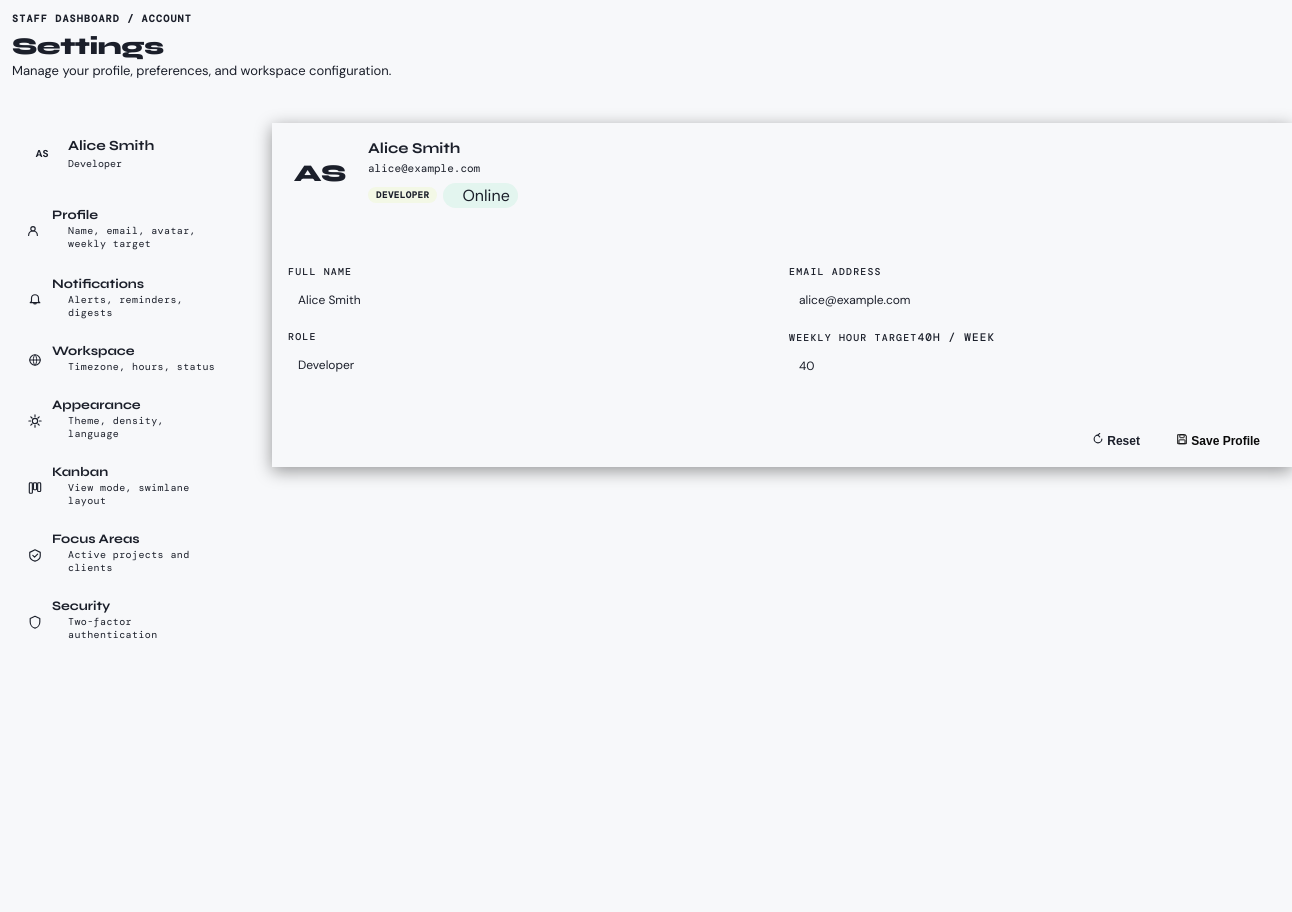
Test: SettingsPage — Workspace tab › shows timezone select with provided options
Click the tab "Workspace Timezone, hours, status" at (132, 362), box [12,335,252,389]
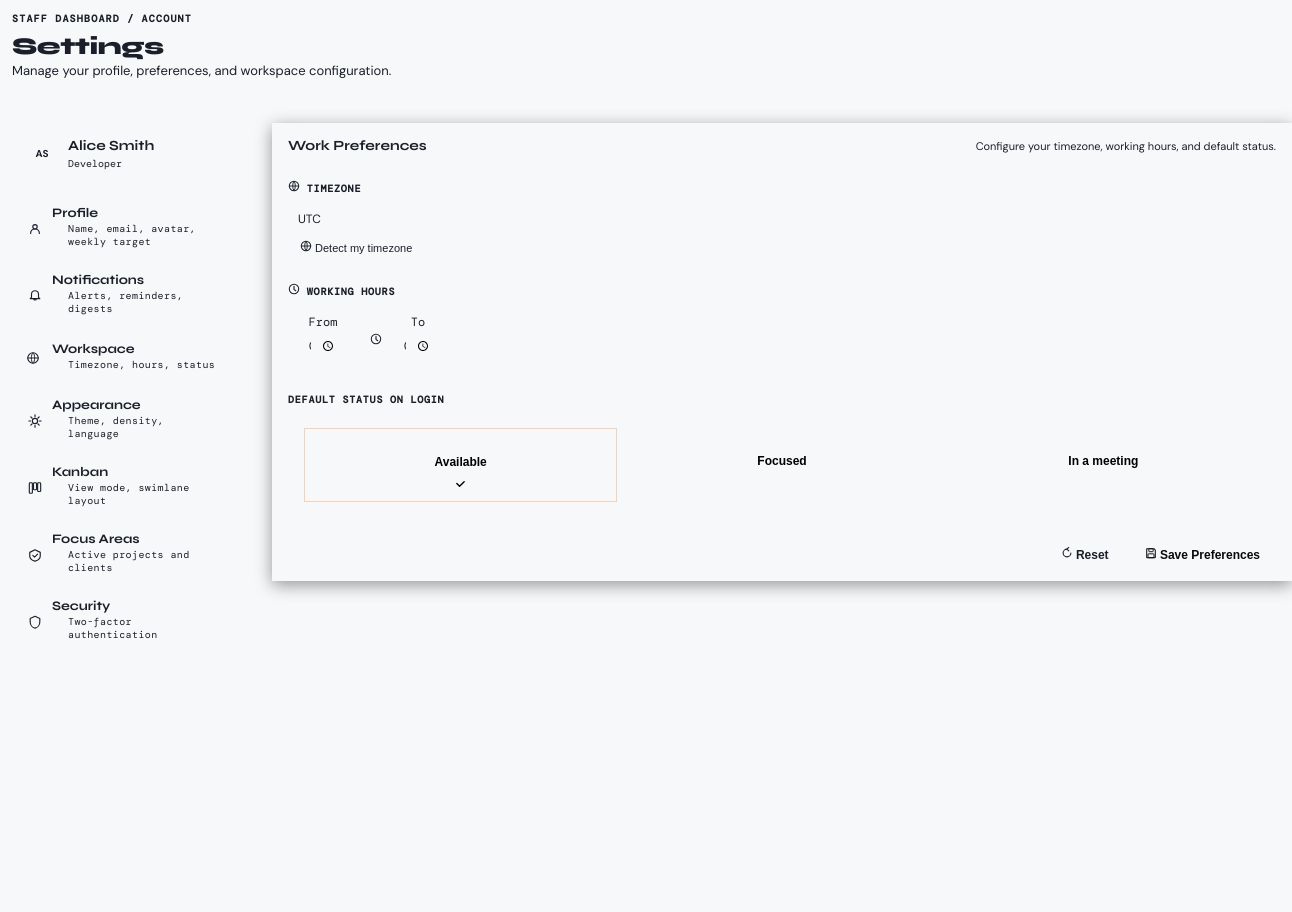
Now the dropdown is shown, box [288,203,1276,235]
